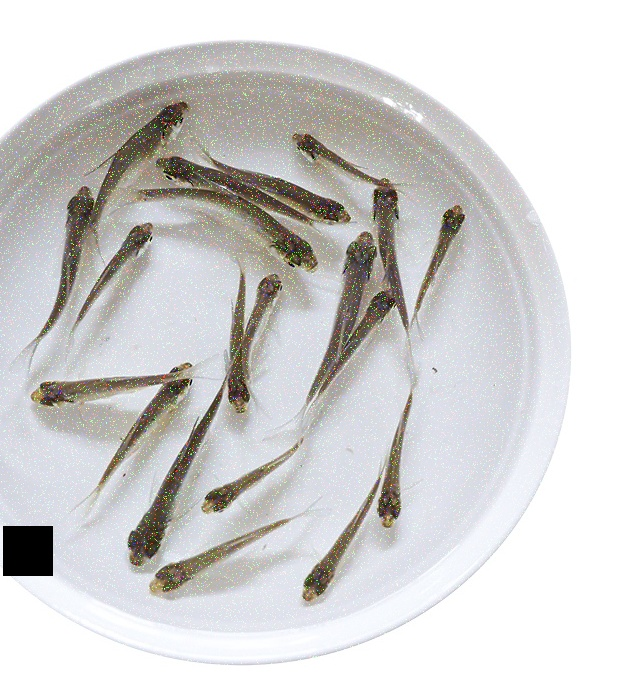fry: (123, 413, 184, 574), (124, 344, 191, 478), (286, 501, 363, 616), (40, 177, 100, 322), (10, 356, 151, 417), (107, 91, 193, 191), (217, 203, 325, 274), (145, 542, 262, 599), (364, 172, 416, 292), (184, 458, 286, 515), (92, 208, 156, 298), (333, 224, 378, 348), (211, 315, 260, 426), (374, 408, 417, 533), (266, 169, 351, 230), (424, 193, 472, 292), (281, 124, 363, 178), (241, 263, 286, 344), (158, 150, 228, 197), (359, 283, 399, 361)
